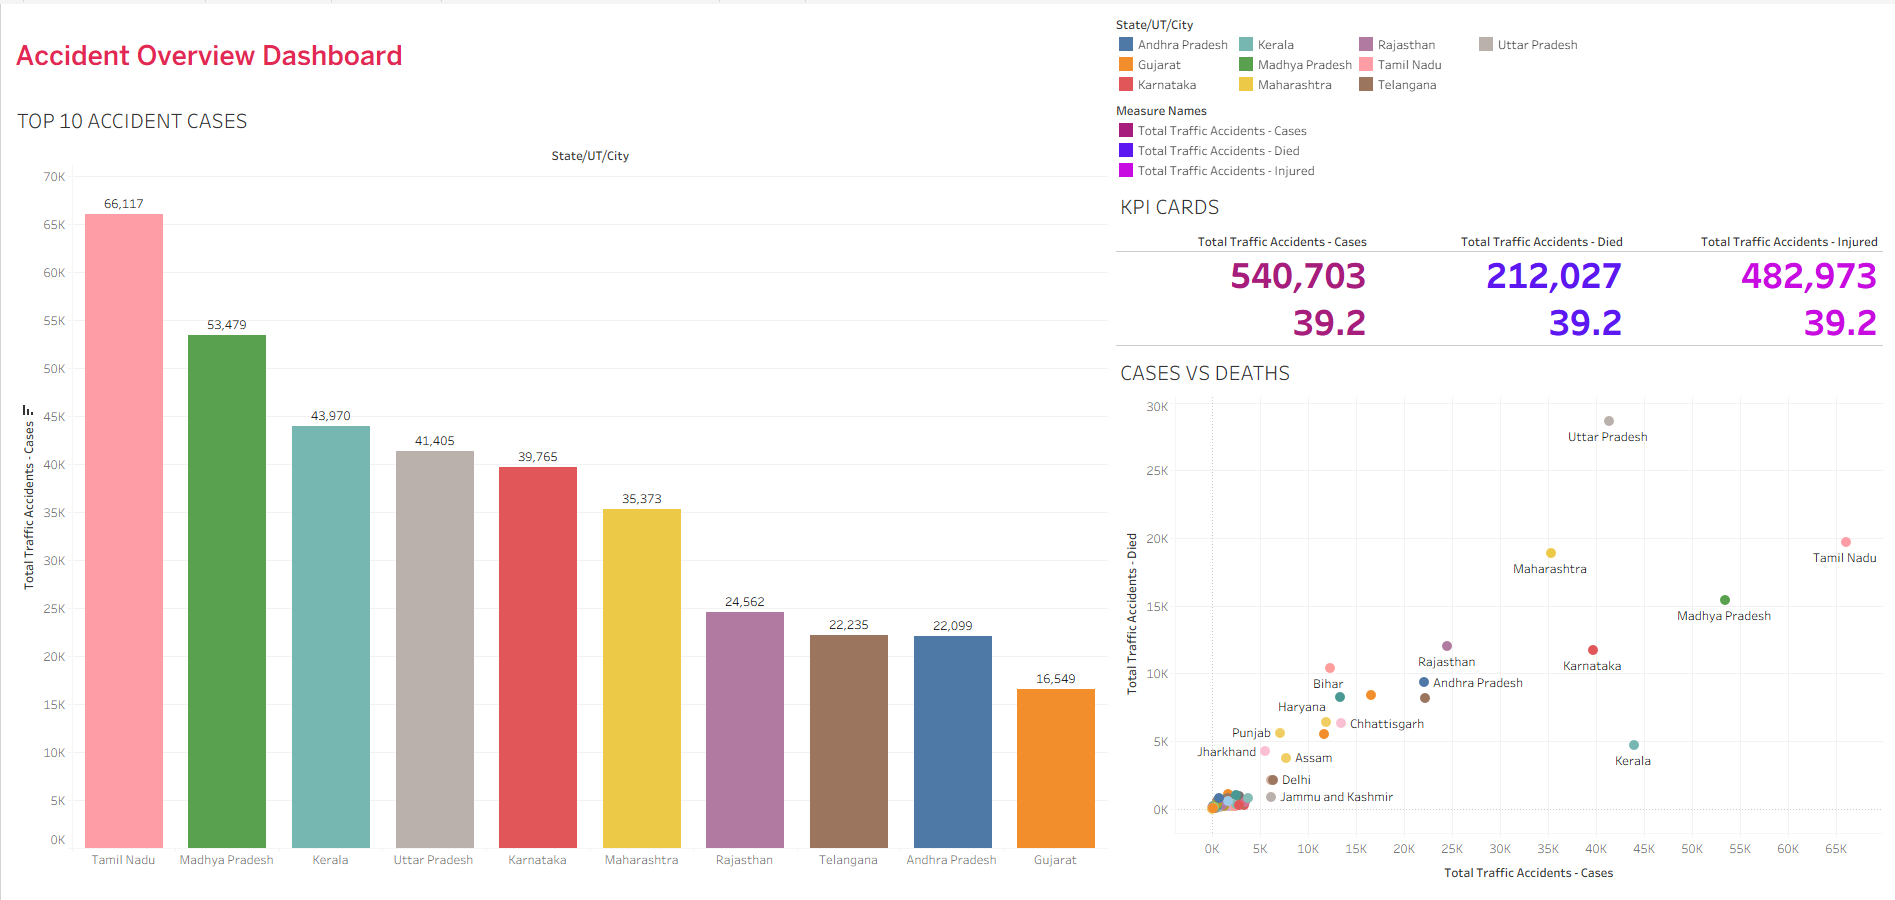

This screenshot's page, from the dashboard's own definition file:
{"tool":"tableau","page":{"name":"Accident Overview Dashboard","canvas":[1000,1000],"units":"permille","ordinal":0},"visuals":[{"type":"text","box":[4.7,10.1,533.9,95.7]},{"type":"legend","title":"TOP 10 ACCIDENT CASES","param":"[federated.1wg8qdi1x9ae9d18oaclo15cth8l].[none:State/UT/City:nk]","box":[538.6,10.1,456.7,95.7]},{"type":"worksheet","title":"TOP 10 ACCIDENT CASES","mark":"Automatic","rows":["Total Traffic Accidents - Cases"],"cols":["State/UT/City"],"box":[4.7,105.9,533.9,884]},{"type":"legend","title":"KPI CARDS","param":"[federated.1wg8qdi1x9ae9d18oaclo15cth8l].[:Measure Names]","box":[538.6,105.9,456.7,110.3]},{"type":"worksheet","title":"KPI CARDS","mark":"Automatic","box":[538.6,216.1,456.7,210.4]},{"type":"worksheet","title":"CASES VS DEATHS","mark":"Circle","rows":["Total Traffic Accidents - Died"],"cols":["Total Traffic Accidents - Cases"],"box":[538.6,426.5,456.7,563.3]}]}

Visuals, with their boxes on the dashboard's canvas, which has no fixed pixel size, in thousandths of its width and height (x1, y1, x2, y2). These are canvas units, not pixel positions in the 1895x900 screenshot, which may show the page scaled, cropped or inside an application window:
text: select_region(5, 10, 539, 106)
"TOP 10 ACCIDENT CASES" legend: select_region(539, 10, 995, 106)
"TOP 10 ACCIDENT CASES" worksheet: select_region(5, 106, 539, 990)
"KPI CARDS" legend: select_region(539, 106, 995, 216)
"KPI CARDS" worksheet: select_region(539, 216, 995, 426)
"CASES VS DEATHS" worksheet (Circle marks): select_region(539, 426, 995, 990)
